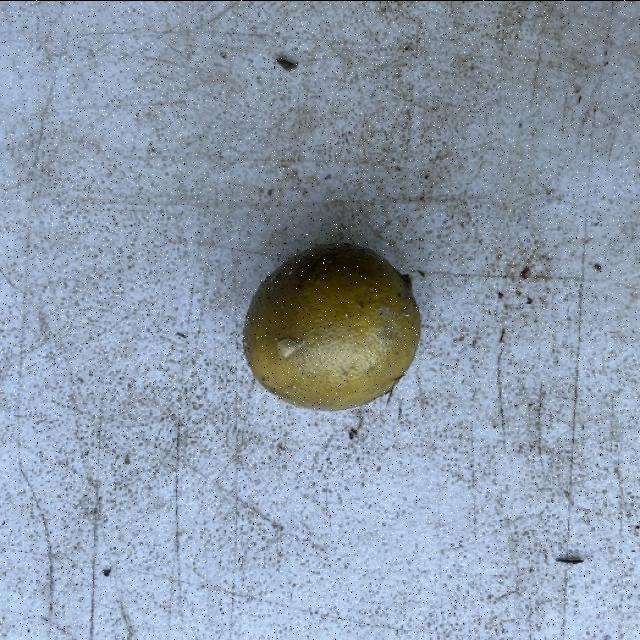organik: (250, 242, 420, 414)
